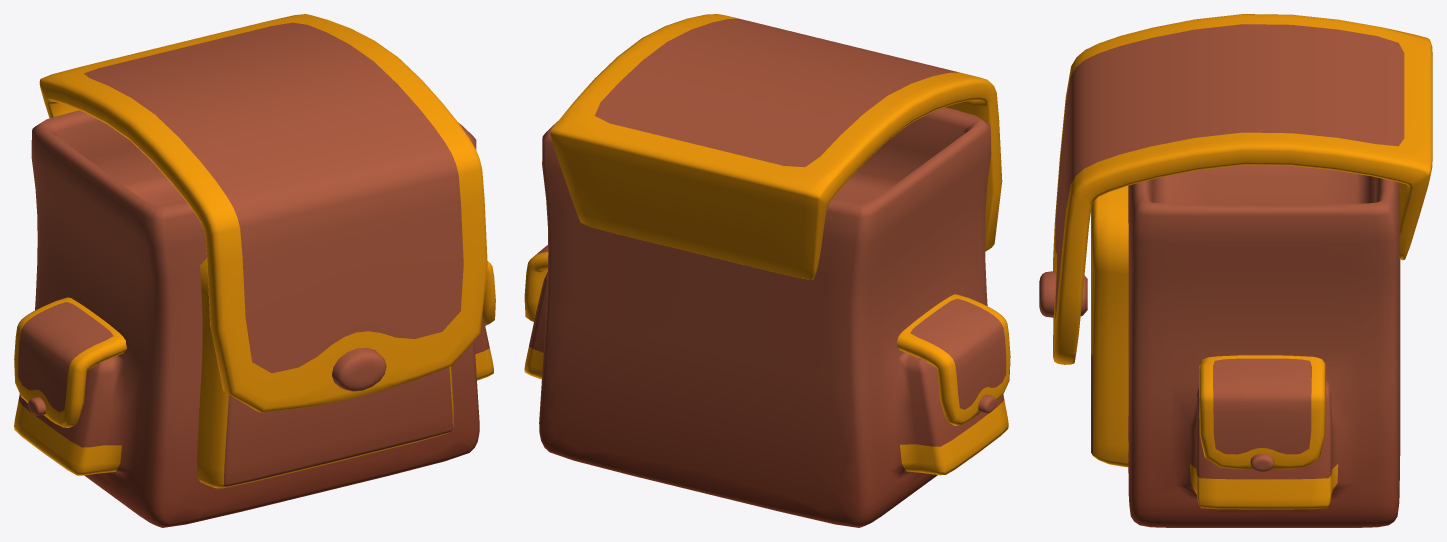
Rendered from Backpack.fbx.
3 views of the same model, side by side, from view 1: azimuth 30°, elevation 25°; view 2: azimuth 150°, elevation 25°; view 3: azimuth 270°, elevation 25° (orthographic).
Parts seen in each view (by area): view 1: Backpack; view 2: Backpack; view 3: Backpack.
Boxes of the visible parts, x1,y1,x2,y2 form: Backpack: (14, 14, 495, 527); Backpack: (524, 14, 1010, 527); Backpack: (1039, 14, 1432, 527).
Size of the model in its own units: 46.52 by 37 by 35.04.
Materials: 1 (1 with a texture image).
